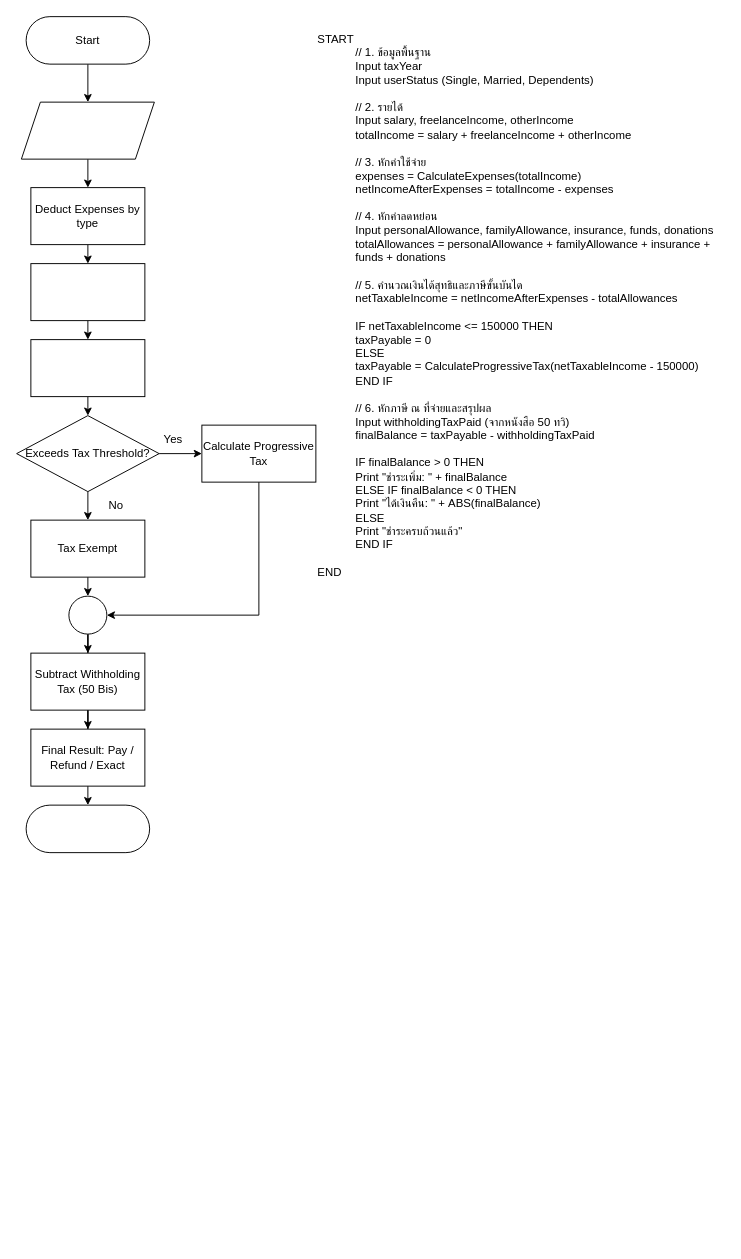
This 741x1259 diagram has some shape labels left out. Each missing label, with the centre of its shape:
Calculate Net Income: point (87, 368)
Deduct Allowances: point (87, 292)
End: point (87, 828)
Input total income: point (87, 130)
